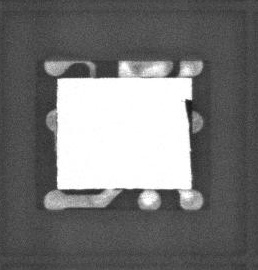DIE_BROKEN: (184, 97, 192, 146)
